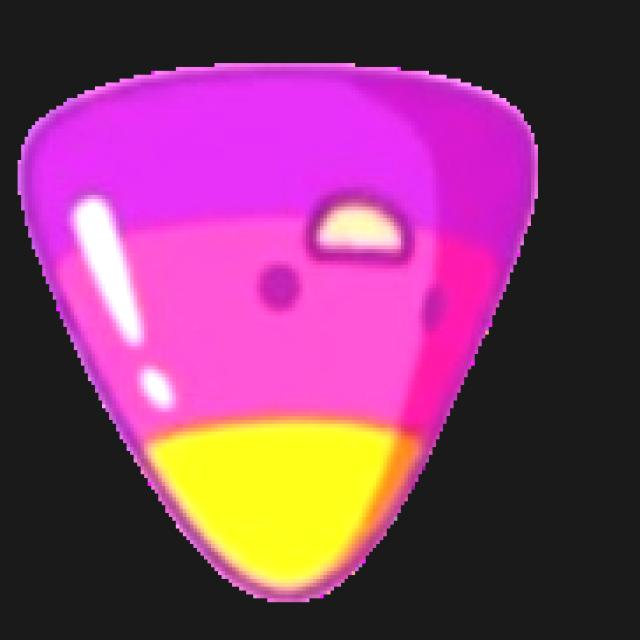jian: (14, 58, 542, 605)
